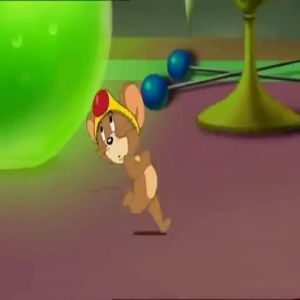Jerry: (75, 82, 147, 161)
